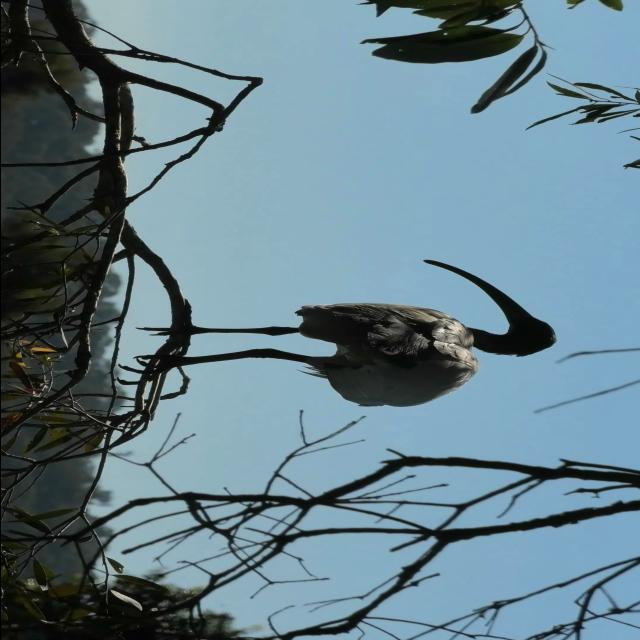Birds-Ibis: (110, 257, 560, 409)
